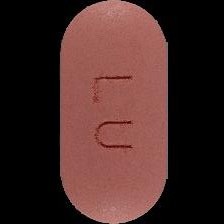68180-104: (0, 0, 224, 224)
